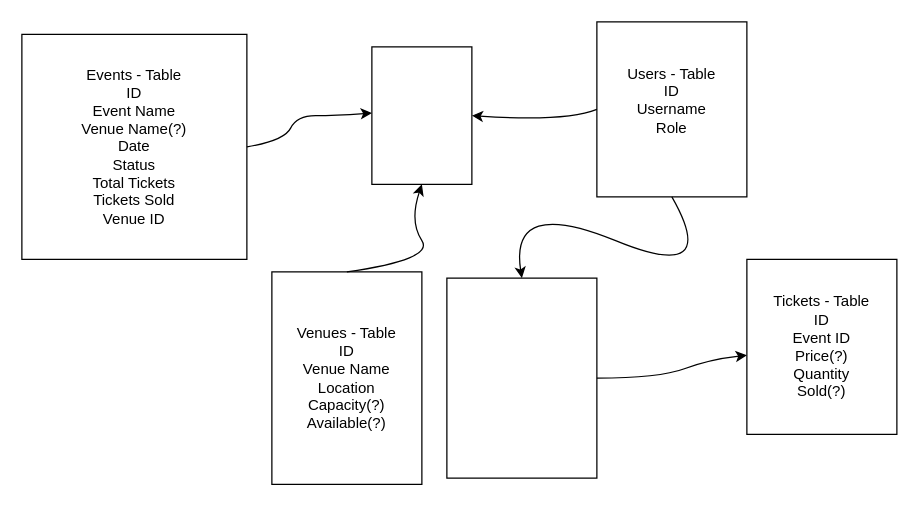
This 919x506 diagram has some shape labels left out. Each missing label, with the centre of its shape:
Keys - Table Event ID Venue ID User ID: the point at 421,115
Tickets Sold - Table ID User ID Ticket ID Date Sold: the point at 521,377
